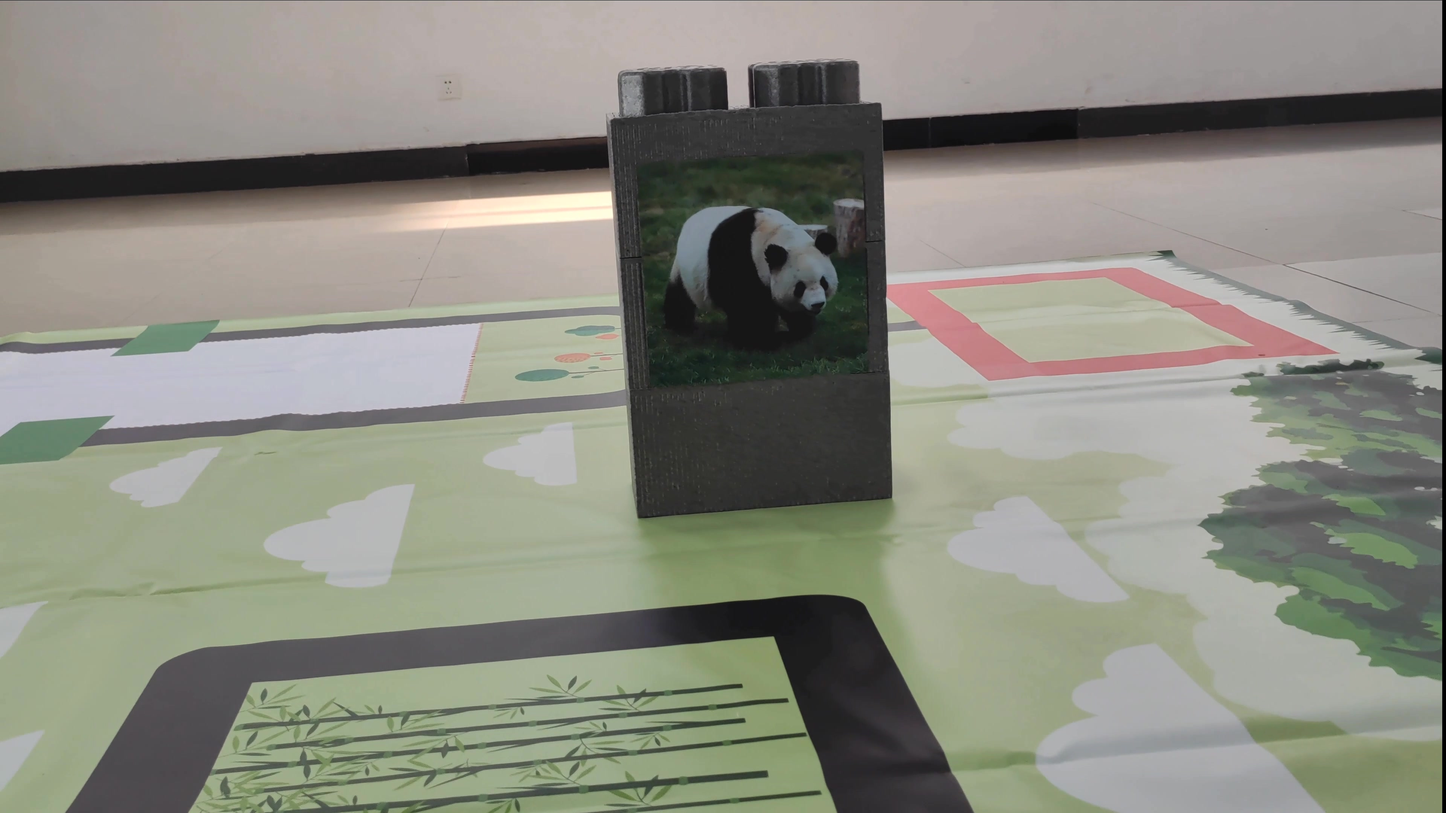panda: (640, 181, 865, 376)
